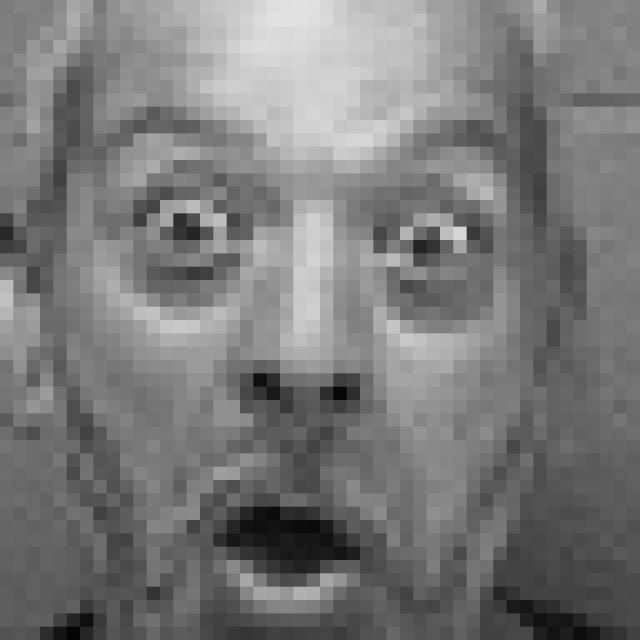surprise: (90, 93, 524, 640)
